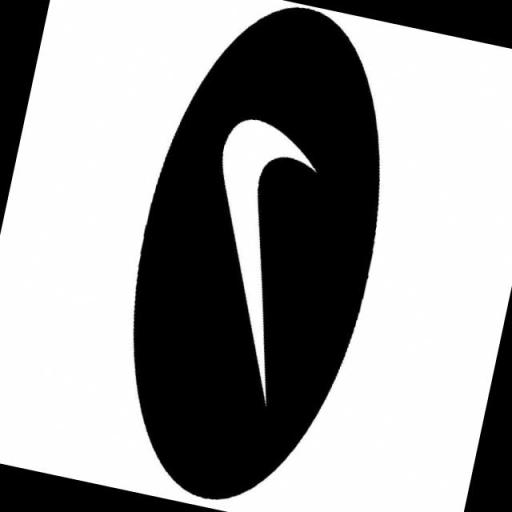Nike: (169, 110, 326, 409)
